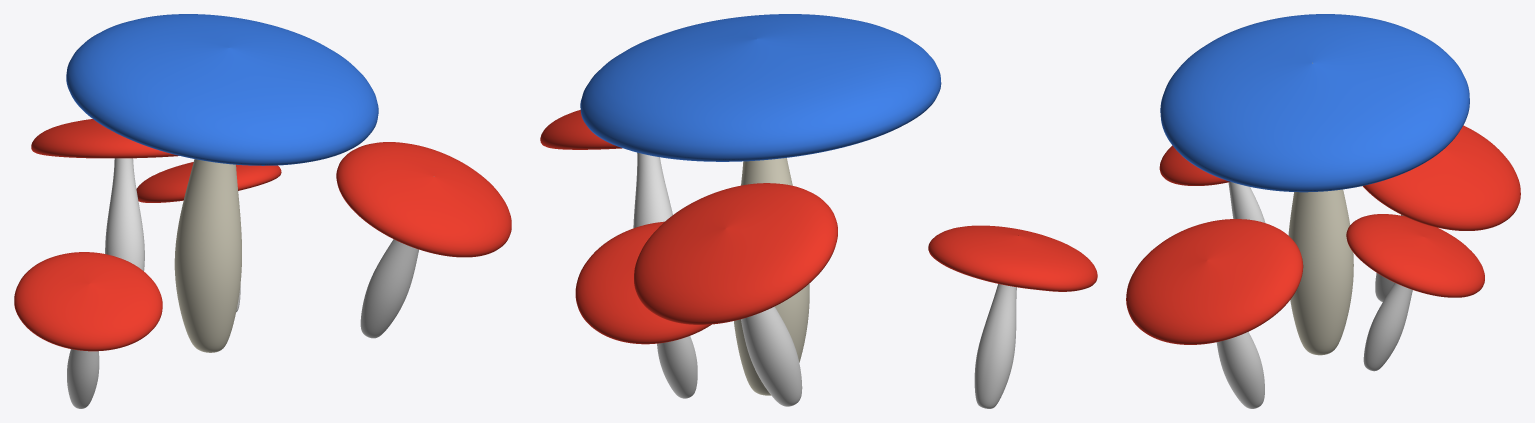
The model's file is فطر.fbx.
The picture shows the model from 3 angles, left to right: view 1: azimuth 30°, elevation 25°; view 2: azimuth 150°, elevation 25°; view 3: azimuth 270°, elevation 25°; orthographic projection. The views are drawn at different scales.
Parts seen in each view (by area): view 1: Circle, Circle.004, Circle.001, Circle.003, Circle.002; view 2: Circle, Circle.003, Circle.001, Circle.002, Circle.004; view 3: Circle, Circle.004, Circle.002, Circle.003, Circle.001.
Boxes of the visible parts, x1=… form: Circle: x1=66, y1=14, x2=378, y2=352; Circle.004: x1=336, y1=142, x2=511, y2=338; Circle.001: x1=14, y1=252, x2=162, y2=408; Circle.003: x1=31, y1=119, x2=178, y2=270; Circle.002: x1=136, y1=162, x2=281, y2=311; Circle: x1=580, y1=14, x2=941, y2=395; Circle.003: x1=634, y1=183, x2=837, y2=406; Circle.001: x1=928, y1=225, x2=1097, y2=408; Circle.002: x1=575, y1=221, x2=711, y2=398; Circle.004: x1=540, y1=110, x2=672, y2=228; Circle: x1=1160, y1=14, x2=1469, y2=355; Circle.004: x1=1126, y1=219, x2=1303, y2=408; Circle.002: x1=1346, y1=214, x2=1484, y2=371; Circle.003: x1=1362, y1=125, x2=1520, y2=302; Circle.001: x1=1159, y1=145, x2=1265, y2=222.
Bounding box in the file's own units: 105 × 64.22 × 77.32.
